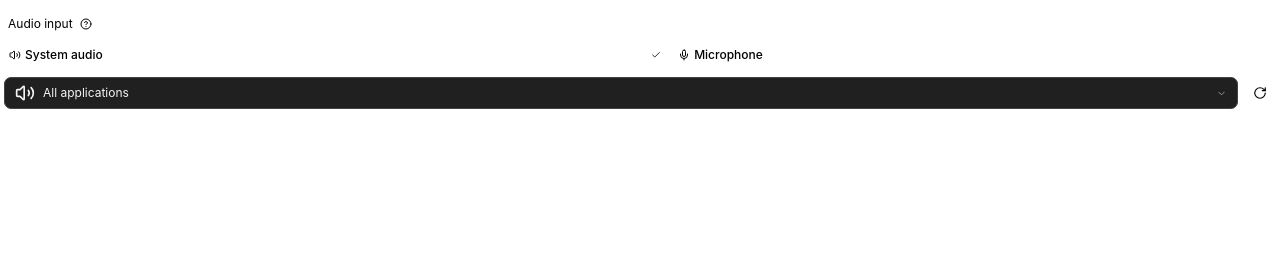
locks the input switches while an application change is pending and maps known target failures
Click the dropdown labelled "All applications" at (86, 92), box [4,77,1238,109]
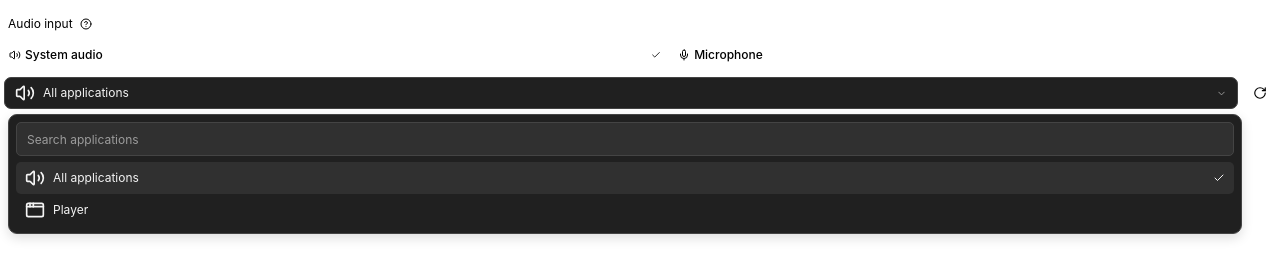
Click the option "Player" at (57, 210), box [25,200,88,220]
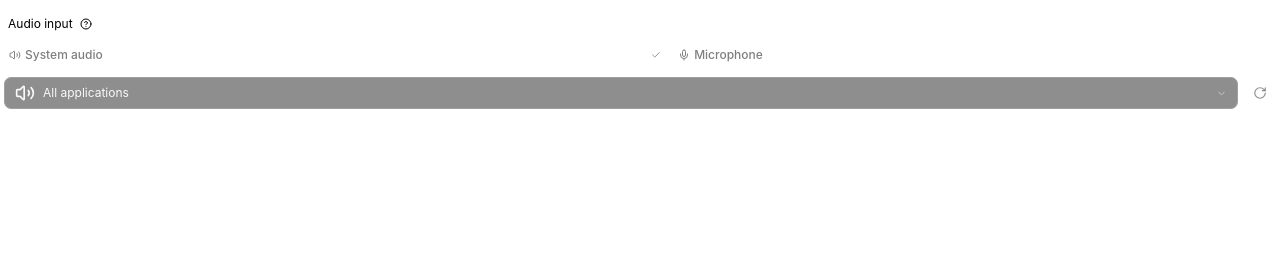
Expected: the switch labelled "Microphone" is disabled
Click the switch labelled "Microphone" at (728, 54), box [673,39,1276,71]
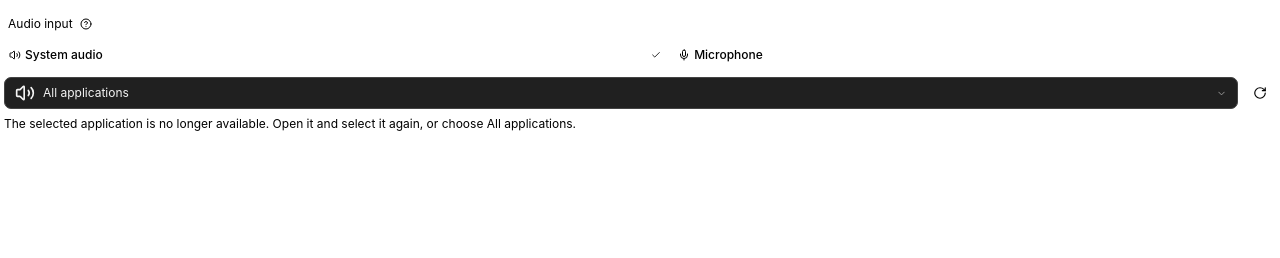
Expected: the dropdown labelled "All applications" is shown, [4,77,1238,109]
Expected: the switch labelled "Microphone" is enabled, [673,39,1276,71]
Expected: the message shows "The selected application is no longer available. Open it and select it again, or choose All applications.", [4,116,576,131]
